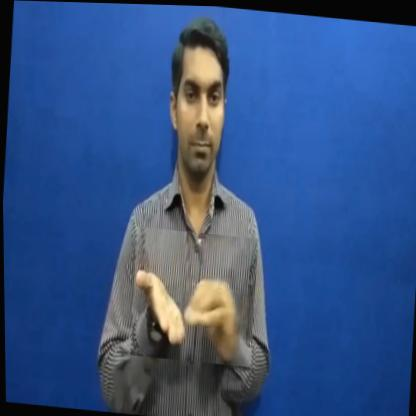ExcuseMe: (128, 226, 258, 366)
